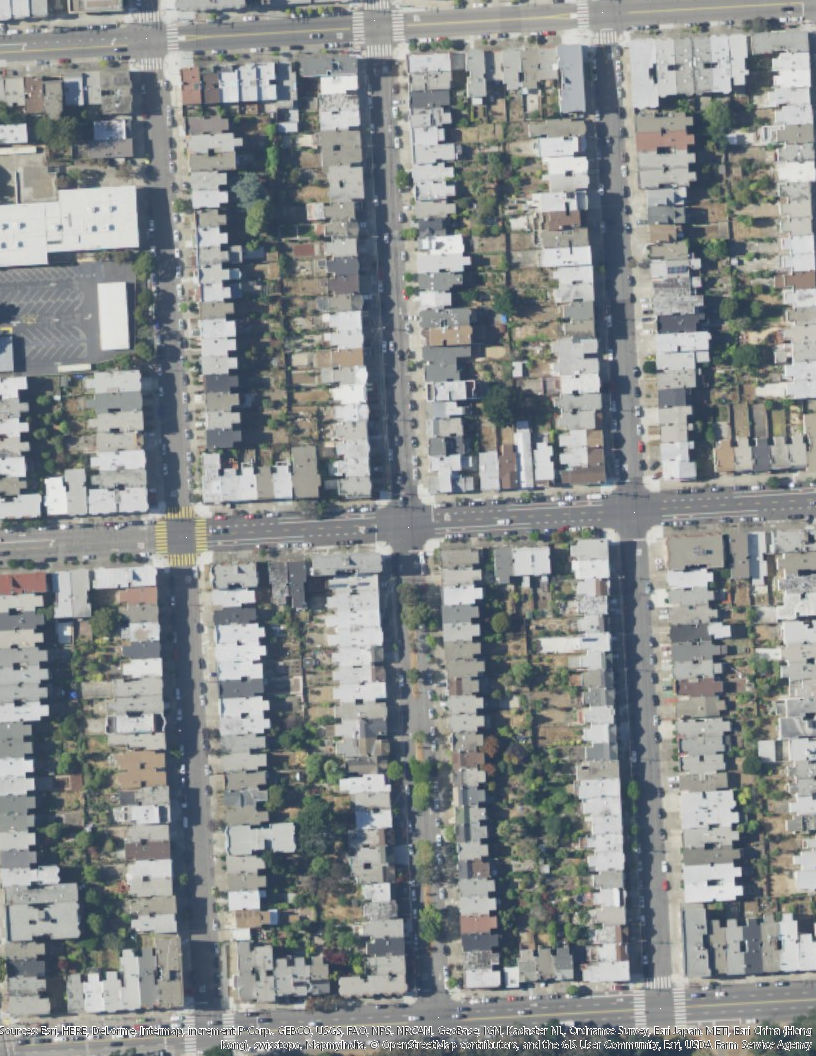zebracross: (672, 986, 688, 1027), (631, 988, 647, 1028), (128, 9, 163, 25), (364, 41, 393, 60), (193, 518, 209, 552), (390, 10, 408, 40), (153, 518, 168, 553), (164, 23, 182, 52), (162, 505, 196, 520), (185, 1014, 197, 1056), (351, 12, 366, 44), (221, 1013, 236, 1044), (167, 552, 197, 567), (642, 975, 674, 989), (594, 29, 620, 45), (133, 57, 164, 70), (577, 1, 590, 29), (365, 1, 391, 12)
